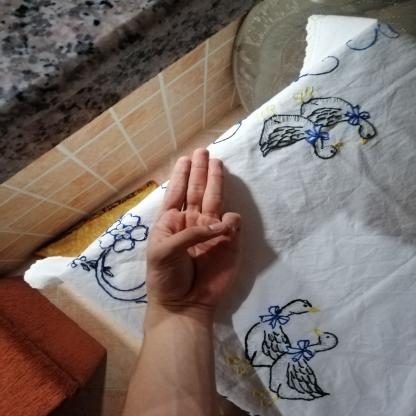THA: (132, 139, 256, 313)
